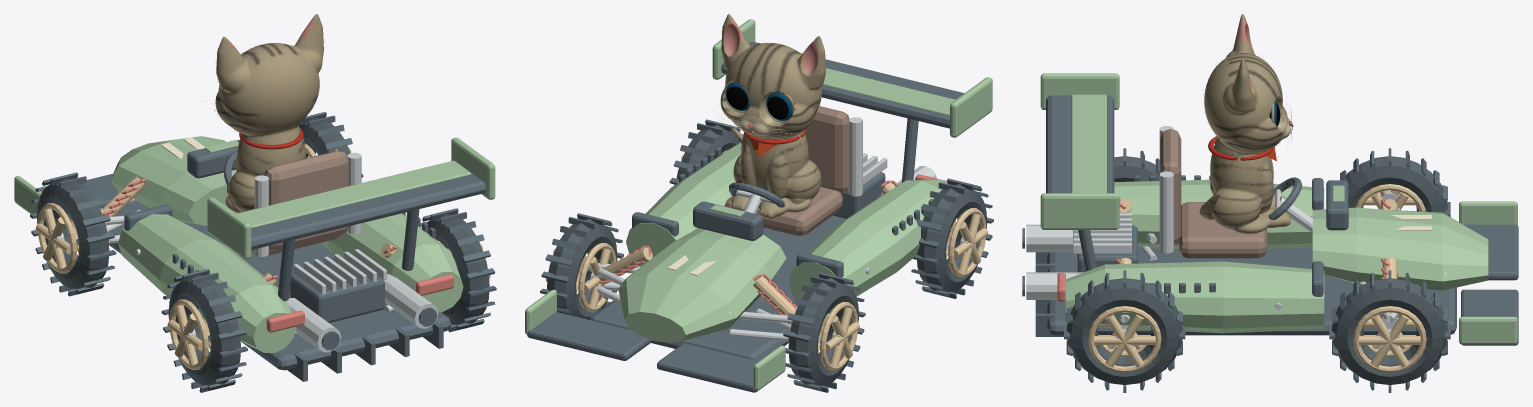
Rendered from munchkin_kart.glb.
3 renders of one model, left to right at view 1: azimuth 30°, elevation 25°; view 2: azimuth 150°, elevation 25°; view 3: azimuth 270°, elevation 25°, orthographic. The views are drawn at different scales.
Parts seen in each view (by area): view 1: Continuous feline anatomy, Radiator sidepod, Undertray, Long sculpted nose, Rear aerofoil, Radiator sidepod.001, Rear wing enamel, Profiled racing tyre, Profiled racing tyre.001, Seat back, Profiled racing tyre.003, Engine block (+20 smaller); view 2: Continuous feline anatomy, Long sculpted nose, Radiator sidepod, Undertray, Radiator sidepod.001, Profiled racing tyre, Profiled racing tyre.001, Front wing.001, Rear aerofoil, Profiled racing tyre.002, Seat back, Front wing (+23 smaller); view 3: Continuous feline anatomy, Radiator sidepod.001, Long sculpted nose, Profiled racing tyre.002, Profiled racing tyre.003, Undertray, Radiator sidepod, Rear wing enamel, Rear aerofoil, Bucket seat, Profiled racing tyre, Wing endplate.002 (+18 smaller).
Boxes of the visible parts, left/top/right/bottom form: Continuous feline anatomy: left=215, top=14, right=323, bottom=212; Radiator sidepod: left=118, top=214, right=296, bottom=352; Undertray: left=108, top=201, right=451, bottom=370; Long sculpted nose: left=110, top=136, right=236, bottom=225; Rear aerofoil: left=251, top=161, right=486, bottom=249; Radiator sidepod.001: left=320, top=213, right=463, bottom=312; Rear wing enamel: left=236, top=160, right=471, bottom=227; Profiled racing tyre: left=36, top=178, right=109, bottom=289; Profiled racing tyre.001: left=168, top=274, right=240, bottom=385; Seat back: left=264, top=151, right=348, bottom=250; Profiled racing tyre.003: left=427, top=214, right=489, bottom=325; Engine block: left=290, top=274, right=384, bottom=322; Continuous feline anatomy: left=720, top=14, right=825, bottom=219; Long sculpted nose: left=618, top=228, right=786, bottom=343; Radiator sidepod: left=788, top=179, right=947, bottom=313; Undertray: left=590, top=215, right=845, bottom=360; Radiator sidepod.001: left=626, top=142, right=741, bottom=266; Profiled racing tyre: left=788, top=277, right=858, bottom=385; Profiled racing tyre.001: left=917, top=184, right=987, bottom=292; Front wing.001: left=527, top=312, right=652, bottom=360; Rear aerofoil: left=721, top=42, right=964, bottom=128; Profiled racing tyre.002: left=547, top=219, right=617, bottom=319; Seat back: left=805, top=106, right=849, bottom=193; Front wing: left=657, top=343, right=758, bottom=392; Continuous feline anatomy: left=1204, top=14, right=1290, bottom=233; Radiator sidepod.001: left=1065, top=261, right=1324, bottom=333; Long sculpted nose: left=1312, top=207, right=1488, bottom=290; Profiled racing tyre.002: left=1331, top=278, right=1447, bottom=384; Profiled racing tyre.003: left=1066, top=278, right=1182, bottom=384; Undertray: left=1047, top=247, right=1456, bottom=335; Radiator sidepod: left=1114, top=179, right=1324, bottom=248; Rear wing enamel: left=1071, top=94, right=1106, bottom=193; Rear aerofoil: left=1046, top=95, right=1114, bottom=193; Bucket seat: left=1179, top=202, right=1267, bottom=258; Profiled racing tyre: left=1345, top=156, right=1447, bottom=213; Wing endplate.002: left=1040, top=193, right=1119, bottom=229.
Size of the model in its own units: 2.59 by 2.43 by 3.78.
Materials: 17 (2 with a texture image).
